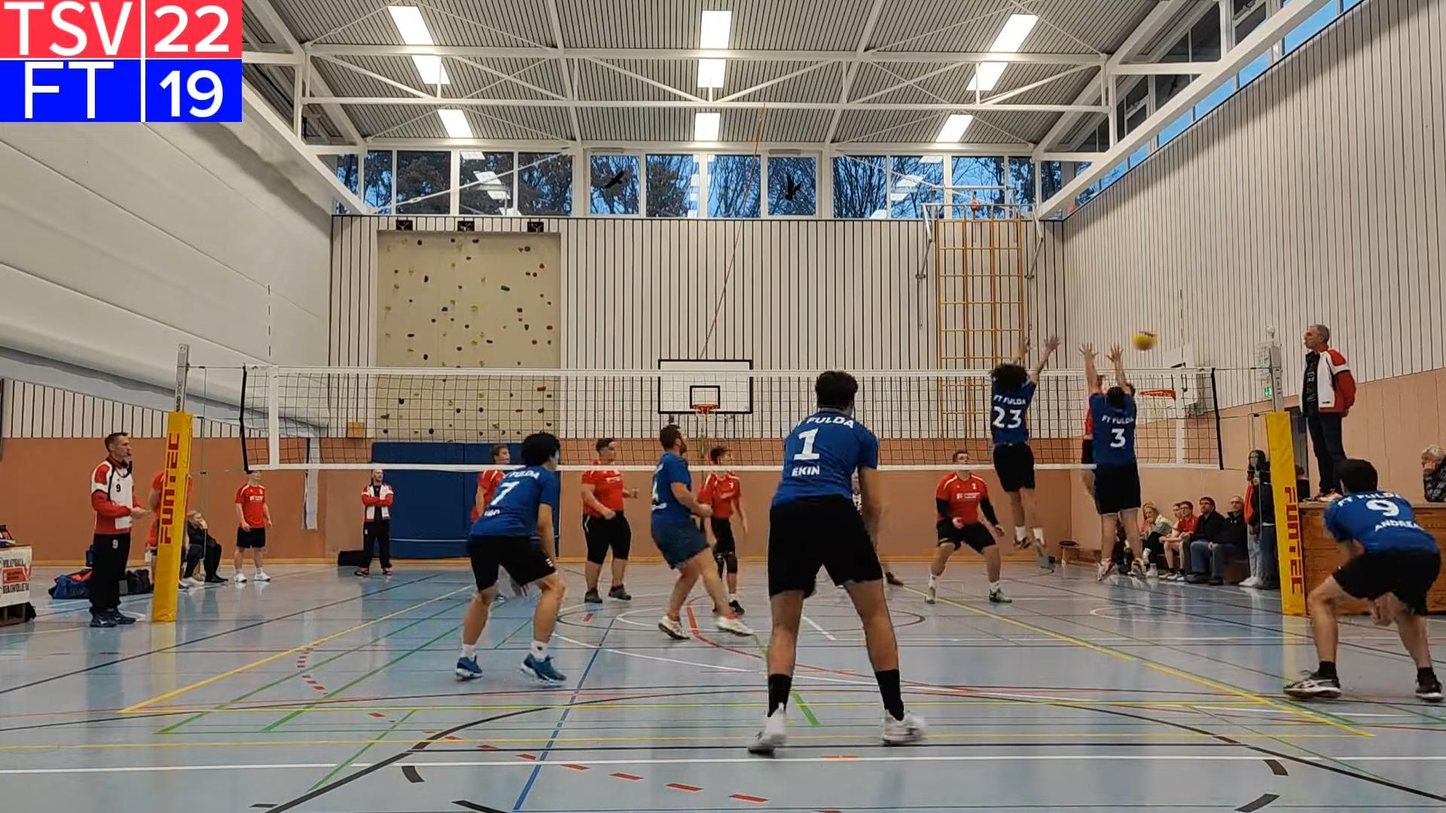attacco: (1076, 360, 1142, 552)
muro: (1075, 339, 1153, 592), (985, 327, 1060, 568)
